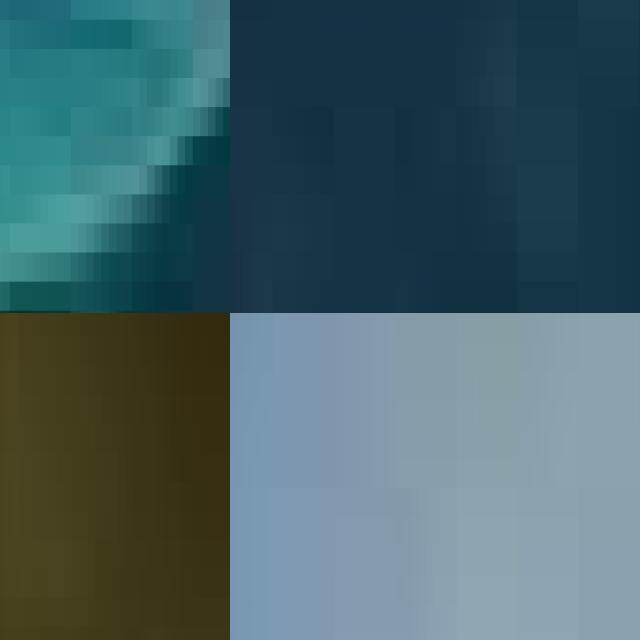fish: (230, 313, 640, 640), (0, 0, 230, 313)
